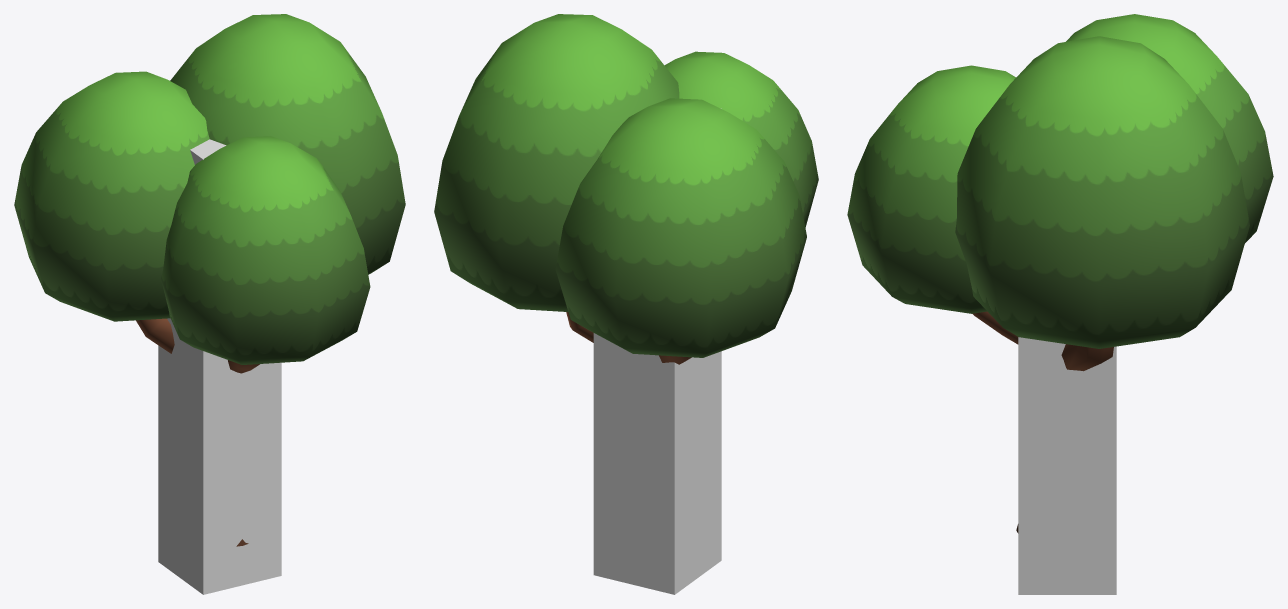
The model's file is Pohon3.fbx.
3 views of the same model, side by side, from view 1: azimuth 30°, elevation 25°; view 2: azimuth 150°, elevation 25°; view 3: azimuth 270°, elevation 25° (orthographic). The views are drawn at different scales.
Parts seen in each view (by area): view 1: Pohon_LOD0, Coliider; view 2: Pohon_LOD0, Coliider; view 3: Pohon_LOD0, Coliider.
Boxes of the visible parts, <box> form: Pohon_LOD0: <box>14,14,405,546</box>; Coliider: <box>158,139,281,594</box>; Pohon_LOD0: <box>434,14,818,364</box>; Coliider: <box>593,108,721,594</box>; Pohon_LOD0: <box>847,14,1273,533</box>; Coliider: <box>1018,337,1116,594</box>.
Size of what is drawn, in the model's own units: 535 by 788 by 537.
